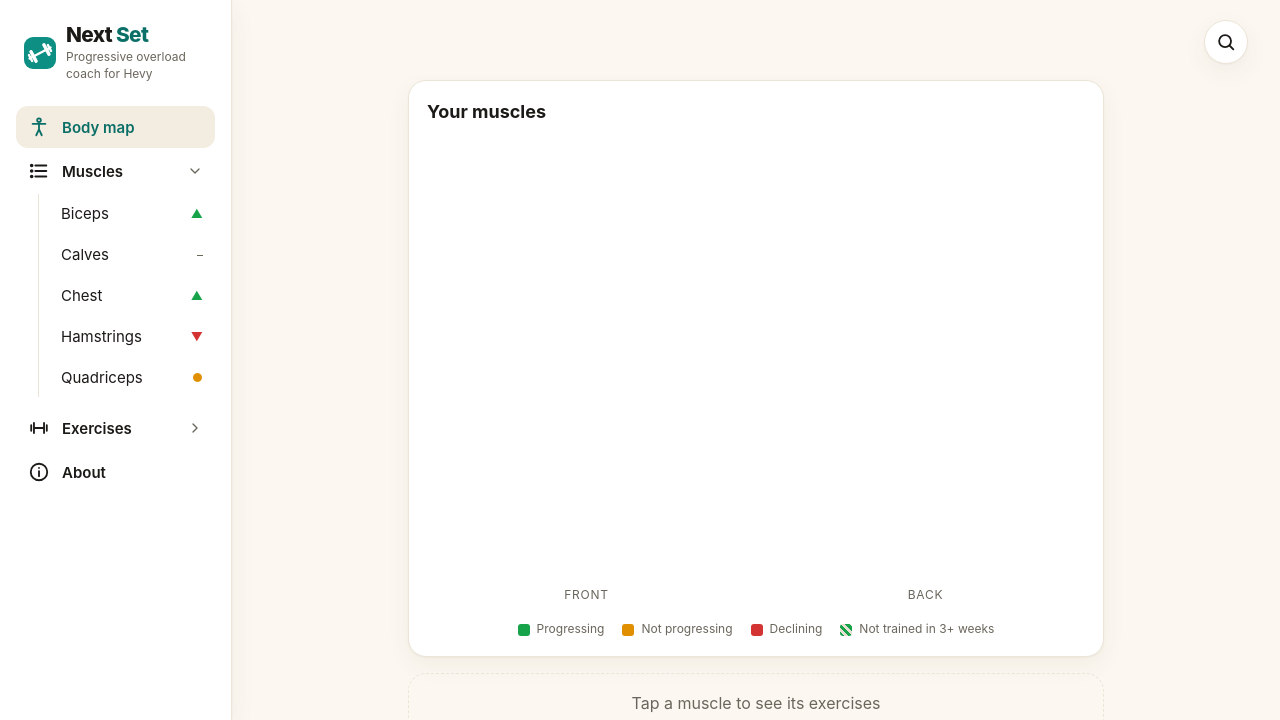
search › is an icon until opened, then shows recent exercises
Click the button named "Search exercises and muscles": [1226, 42] box left=1204, top=20, right=1248, bottom=64
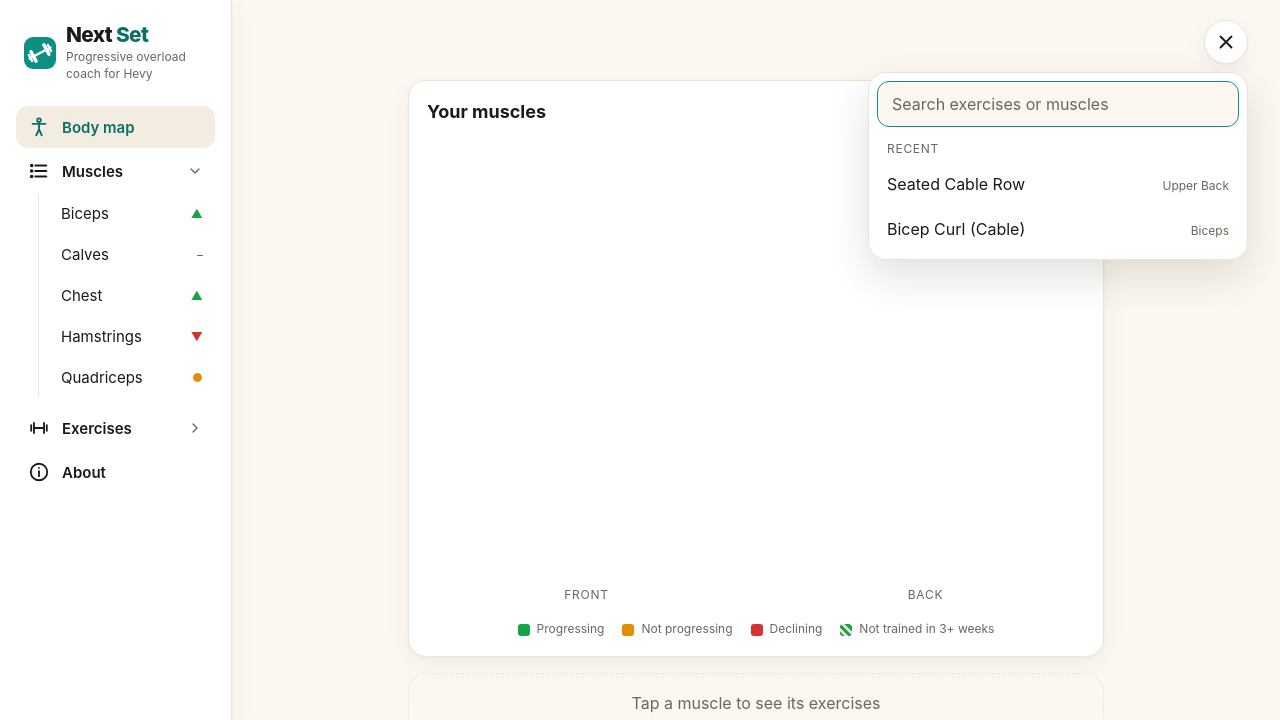
expect the text "Recent" is shown: met, box left=887, top=141, right=939, bottom=156
